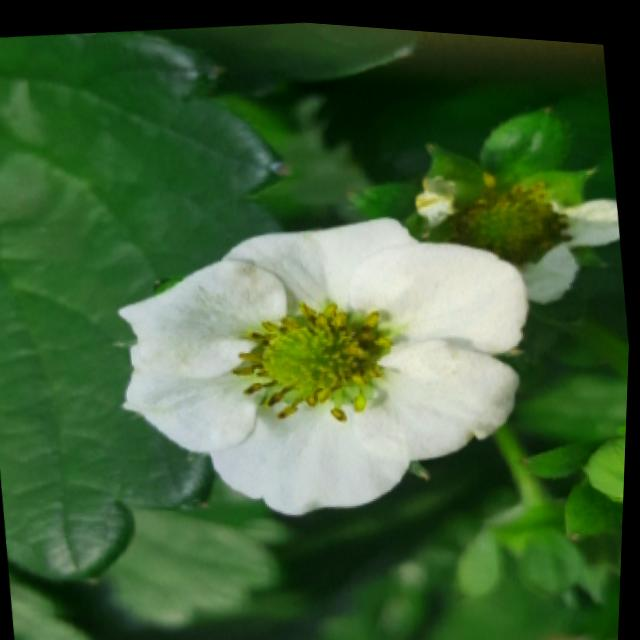Blossom Blight: (229, 286, 400, 422)
